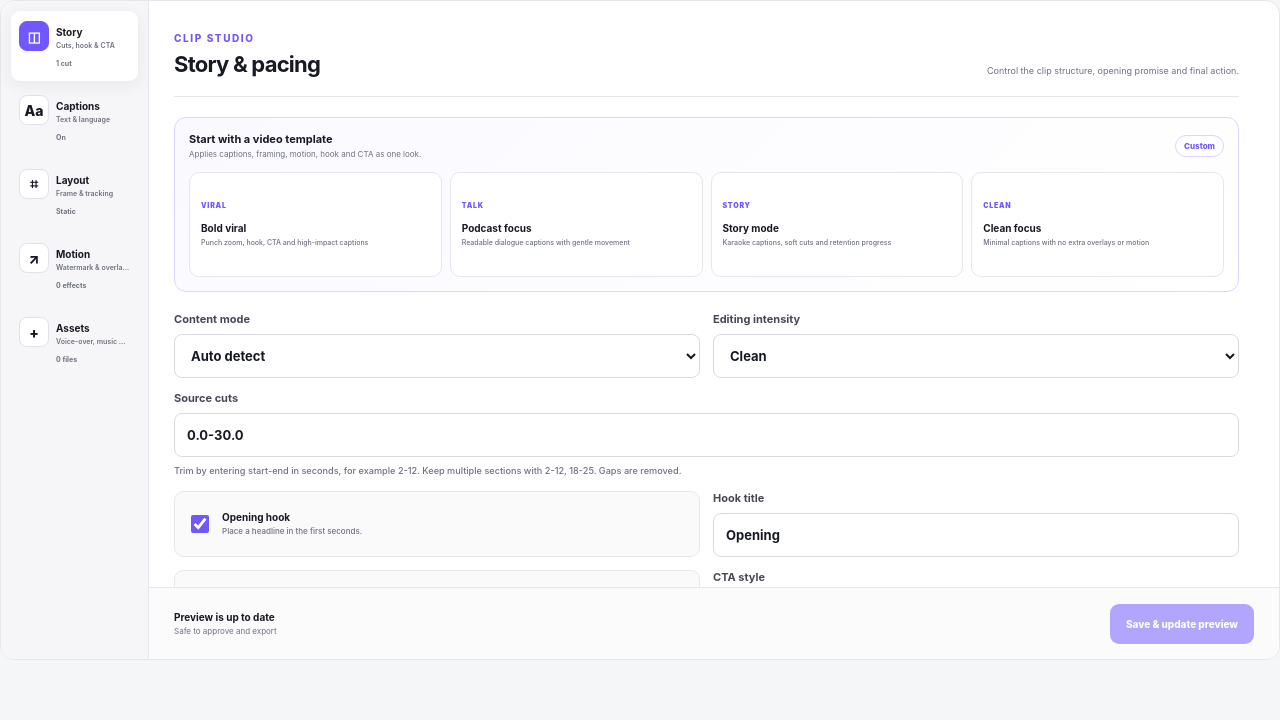
Test: clip style editor › replaces the settings form with Assets instead of creating an empty grid row
Click the button "+ Assets Voice-over, music & video 0 files": (74, 342) [11, 307, 138, 377]
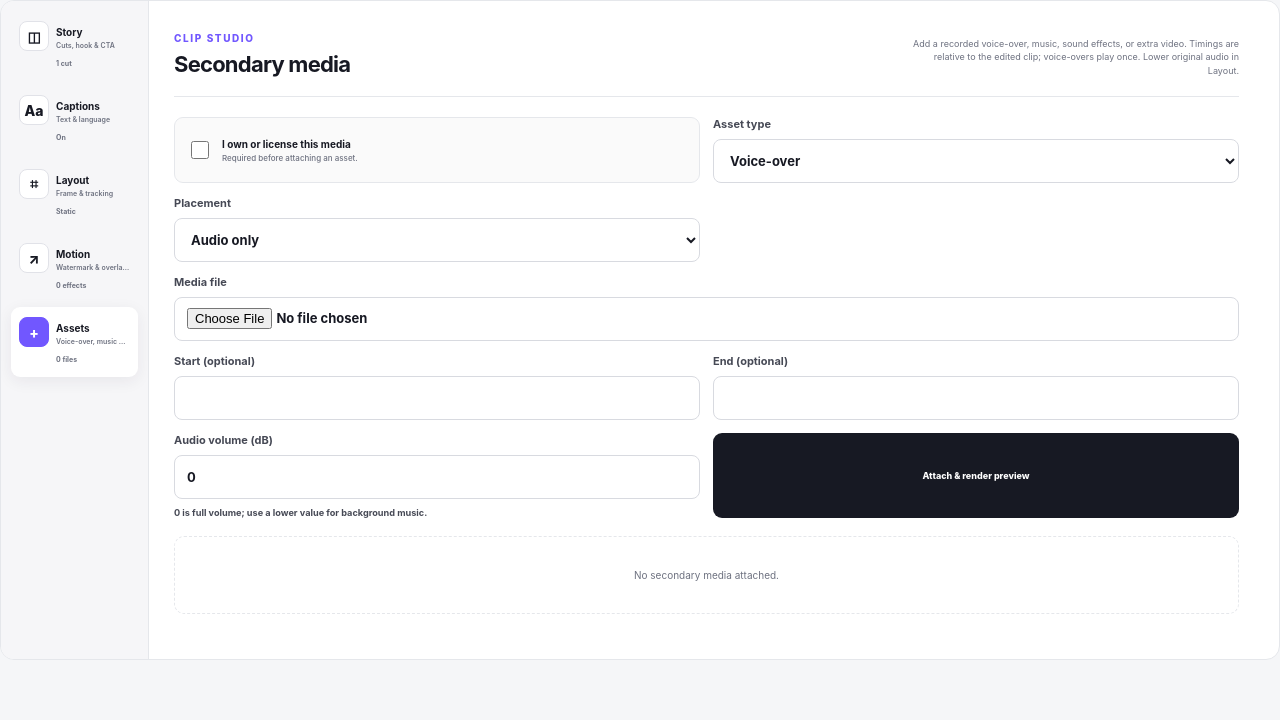
Expected: the heading "Secondary media" is shown, [174, 51, 350, 77]
